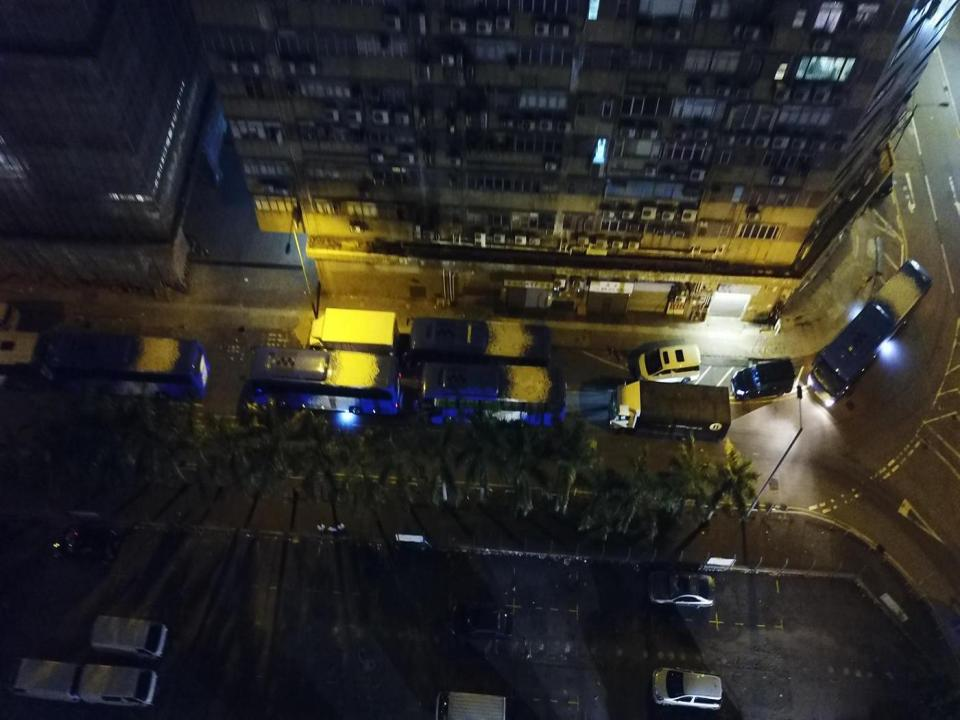bus: (809, 256, 931, 406), (250, 346, 403, 423), (45, 332, 209, 403), (419, 364, 566, 437), (411, 314, 554, 386)
car: (647, 568, 718, 612), (49, 524, 121, 566), (450, 605, 514, 642)
truck: (607, 383, 729, 440), (306, 308, 402, 363)
van: (76, 663, 161, 711), (87, 614, 169, 662), (9, 656, 79, 709), (652, 666, 724, 712), (730, 355, 795, 400), (638, 342, 700, 384), (432, 688, 510, 719)
